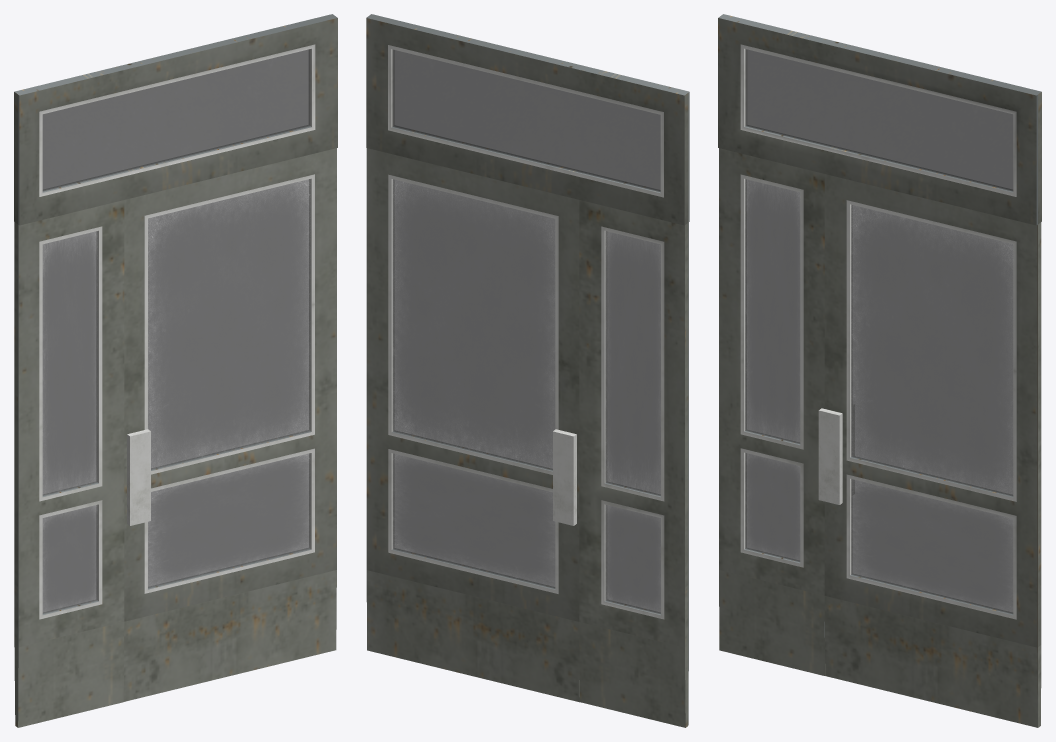
The model's file is bil_door2t.fbx.
The picture shows the model from 3 angles, left to right: view 1: azimuth 30°, elevation 25°; view 2: azimuth 150°, elevation 25°; view 3: azimuth 330°, elevation 25°; orthographic projection.
Parts seen in each view (by area): view 1: bil_door2t; view 2: bil_door2t; view 3: bil_door2t.
Boxes of the visible parts, x1=… form: bil_door2t: x1=14, y1=14, x2=337, y2=727; bil_door2t: x1=366, y1=14, x2=689, y2=727; bil_door2t: x1=718, y1=14, x2=1041, y2=727.
Bounding box in the file's own units: 144 × 274 × 12.12.
